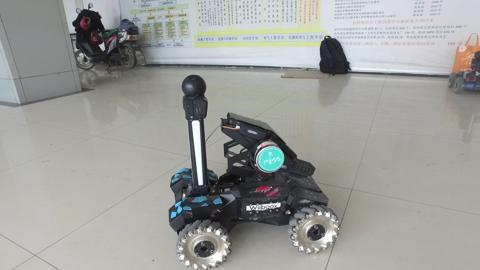bag: (316, 32, 353, 79), (450, 28, 479, 76)
chariot: (166, 72, 343, 270), (446, 45, 479, 96)
